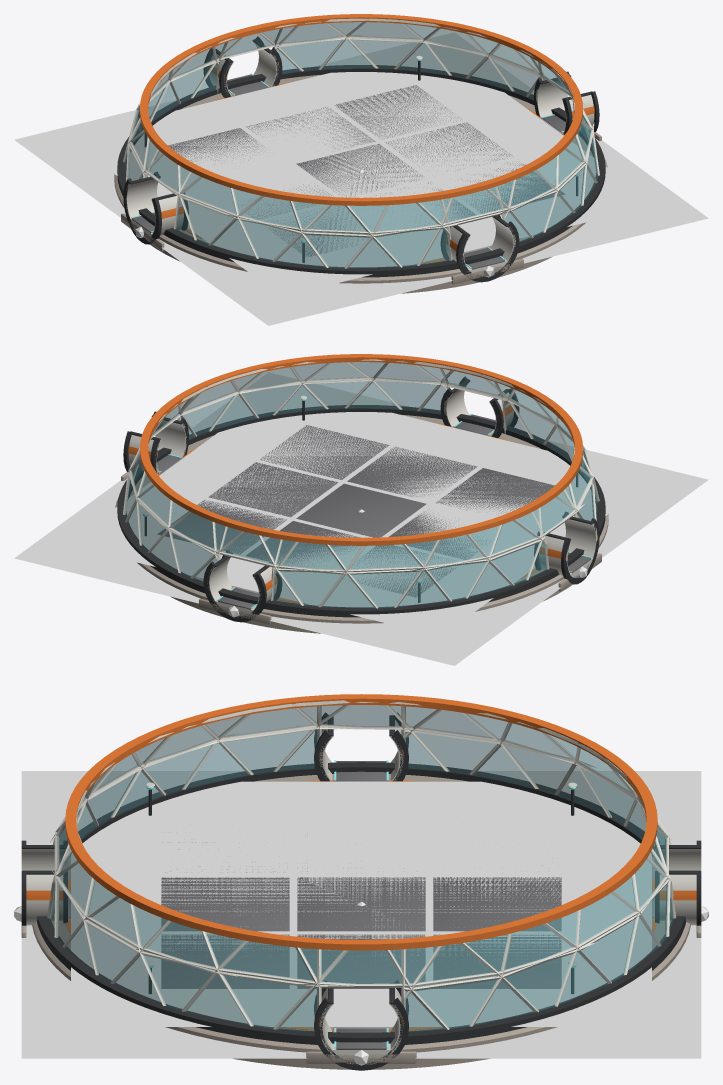
The model's file is dome_5x5_cut.gltf.
The picture shows the model from 3 angles, top to bottom: view 1: azimuth 30°, elevation 25°; view 2: azimuth 150°, elevation 25°; view 3: azimuth 270°, elevation 25°; orthographic projection. The views are drawn at different scales.
Parts seen in each view (by area): view 1: DomeSmall, %P%Interior, %P%Footprint; view 2: DomeSmall, %P%Interior, %P%Footprint; view 3: DomeSmall, %P%Interior, %P%Footprint.
Boxes of the visible parts, <box> form: DomeSmall: <box>114,14,607,293</box>; %P%Interior: <box>65,46,657,296</box>; %P%Footprint: <box>14,32,708,325</box>; DomeSmall: <box>115,354,608,633</box>; %P%Interior: <box>65,386,657,636</box>; %P%Footprint: <box>14,372,708,665</box>; DomeSmall: <box>21,694,701,1070</box>; %P%Interior: <box>71,781,651,1026</box>; %P%Footprint: <box>21,771,701,1058</box>.
Size of the model in its own units: 10.23 by 1.8 by 10.22.
